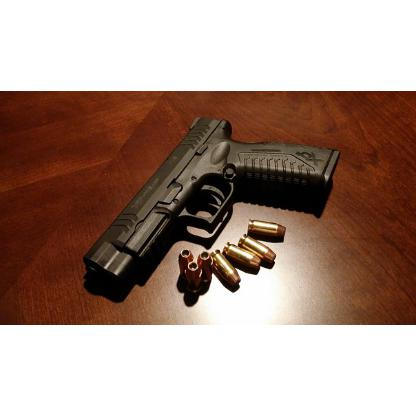gun: (77, 112, 341, 296)
